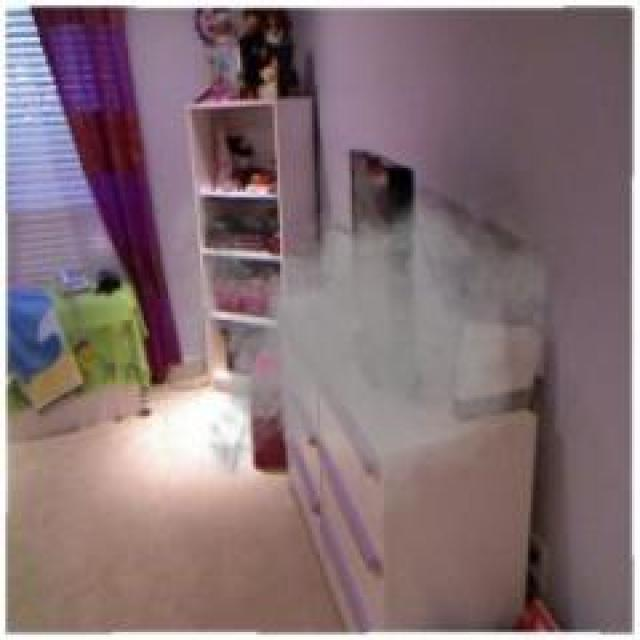Smoke: (190, 190, 555, 500)
